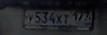license-plateSW: (23, 8, 93, 27)
